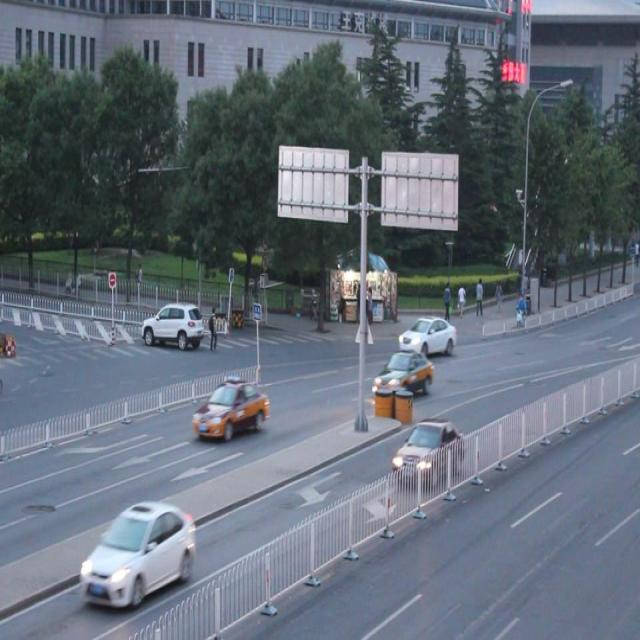car: (82, 501, 194, 608), (191, 374, 269, 440), (392, 419, 465, 484), (140, 302, 202, 350), (373, 348, 435, 395), (400, 311, 456, 355)
